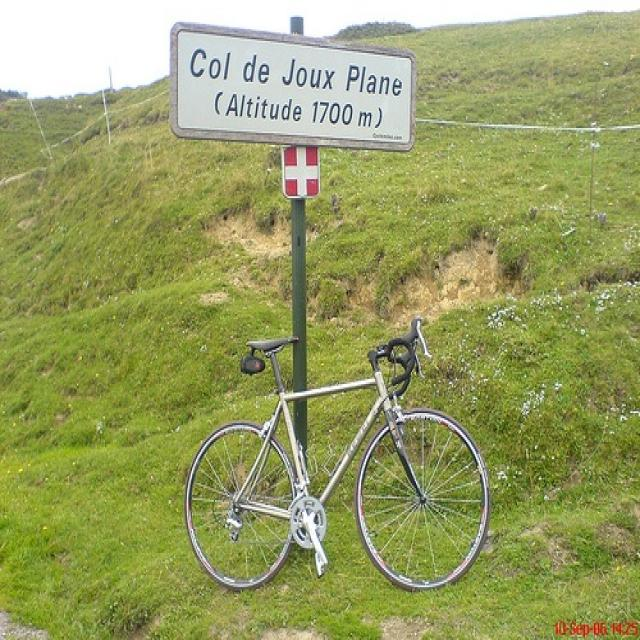bicycle: (183, 316, 492, 592)
